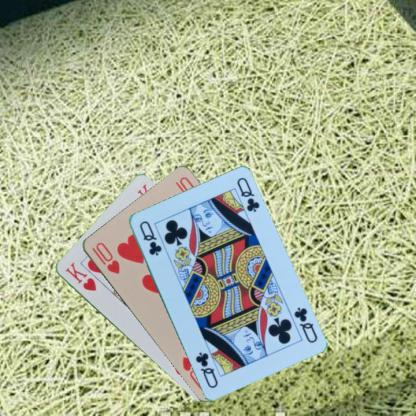10h: (89, 239, 121, 275)
Kh: (61, 259, 98, 292)
Qc: (291, 304, 318, 344), (136, 218, 163, 256)
